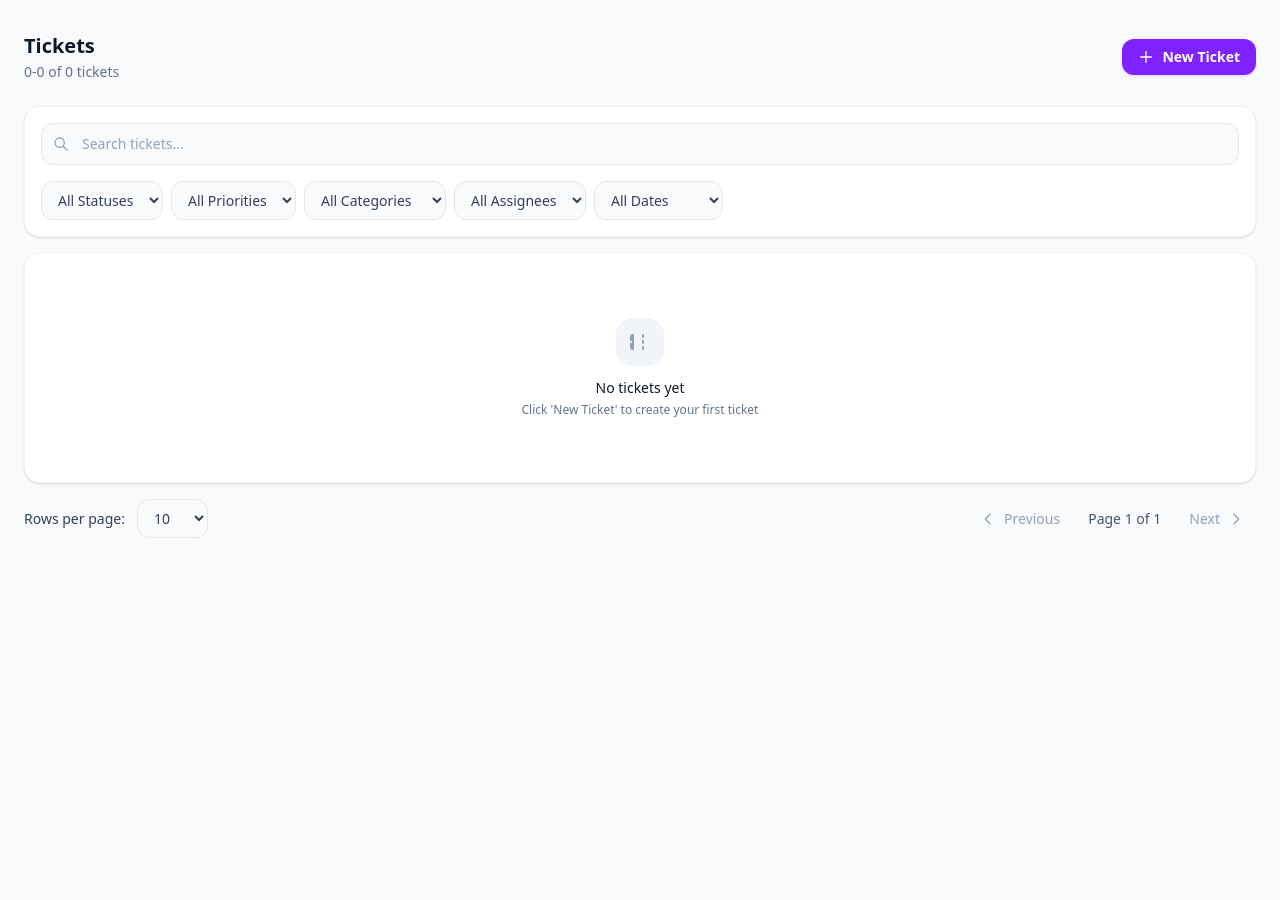
Test: TicketsPage › CreateTicketModal › shows API error message on failed submit
expect the text "No tickets yet" is shown: met, box left=596, top=378, right=684, bottom=398
Click the button "New Ticket" at (1189,57), box left=1122, top=39, right=1256, bottom=75
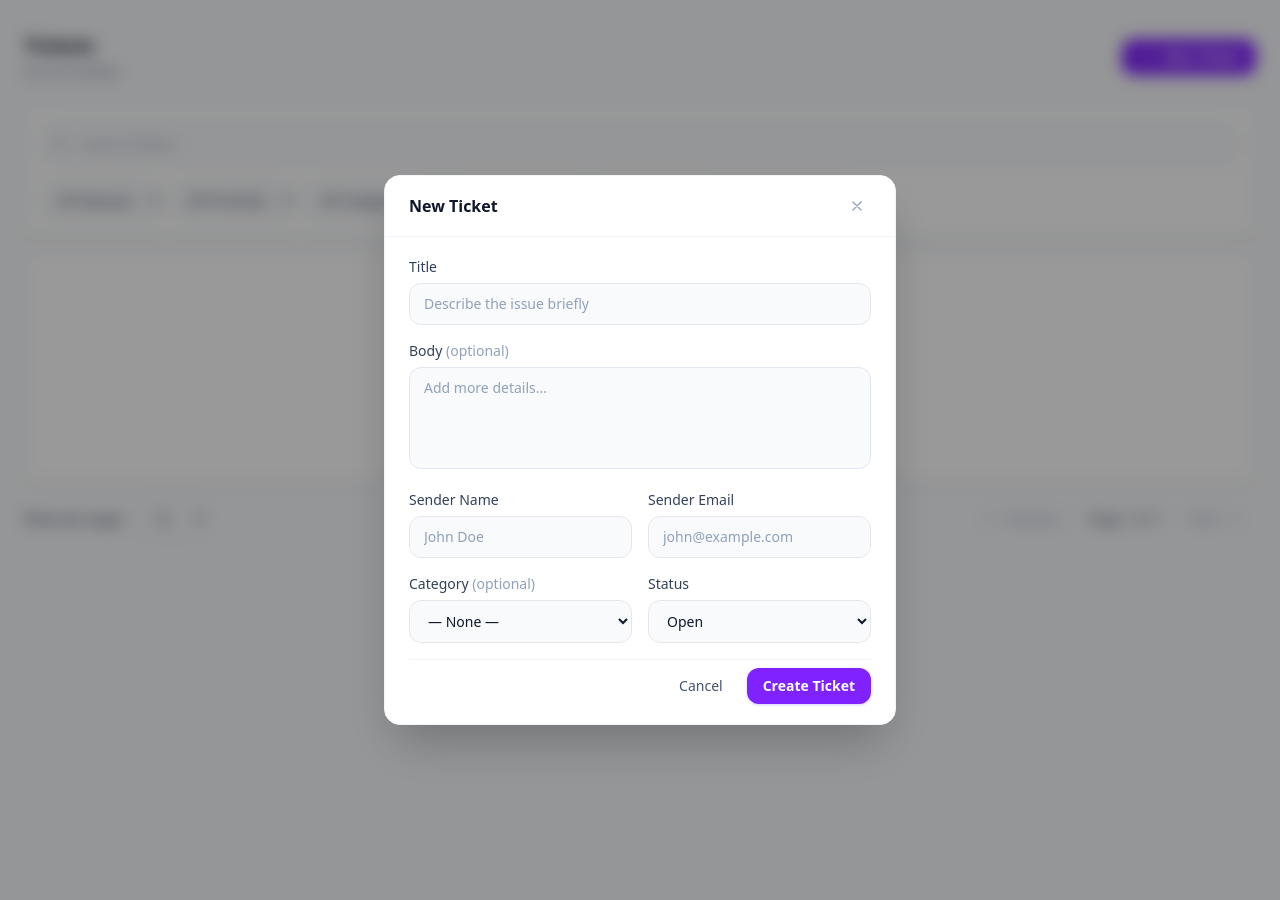
Type "My subject" into the field with placeholder "Describe the issue briefly" at (640,304), box left=409, top=283, right=871, bottom=325
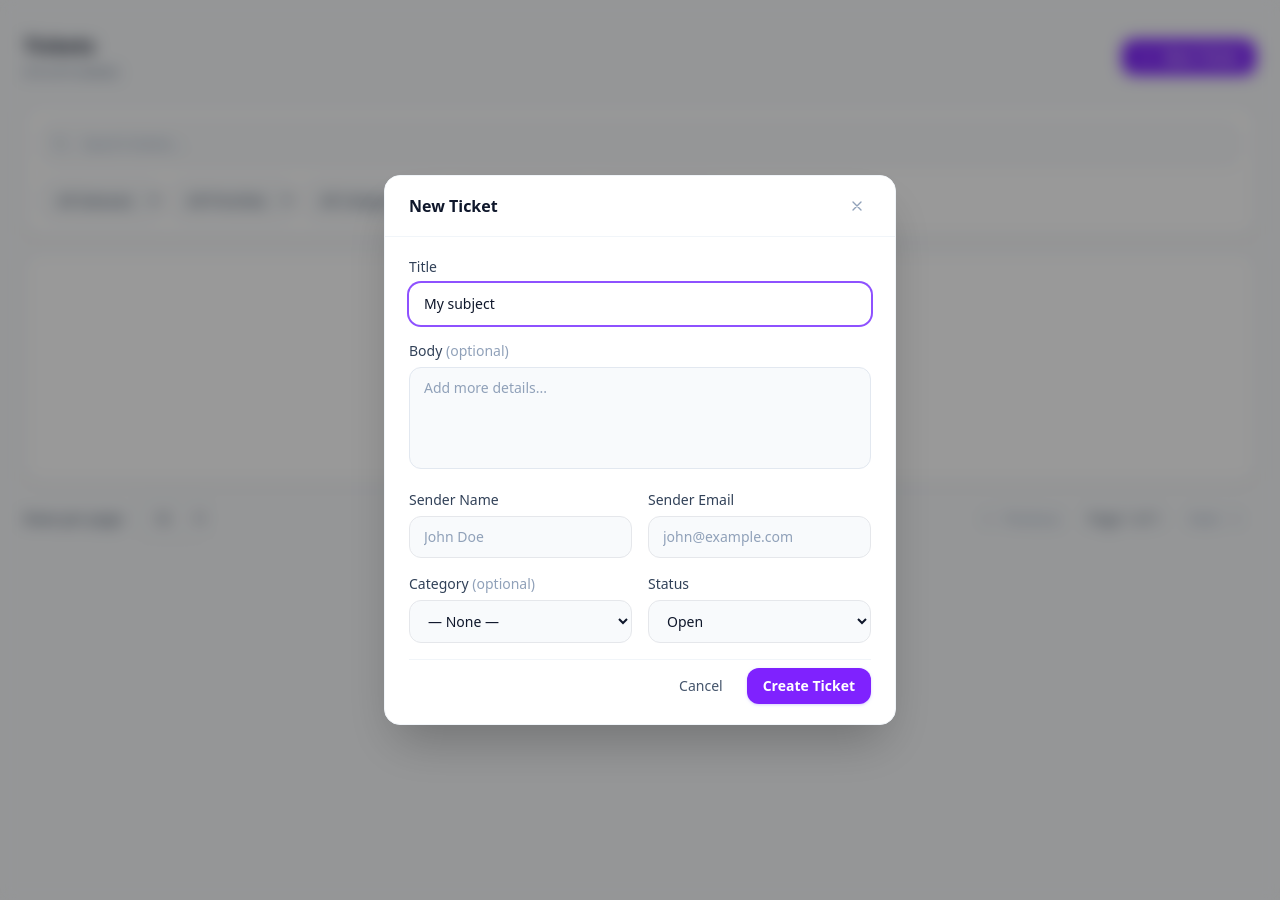
Type "Jane" into the field with placeholder "John Doe" at (520,537), box left=409, top=516, right=632, bottom=558
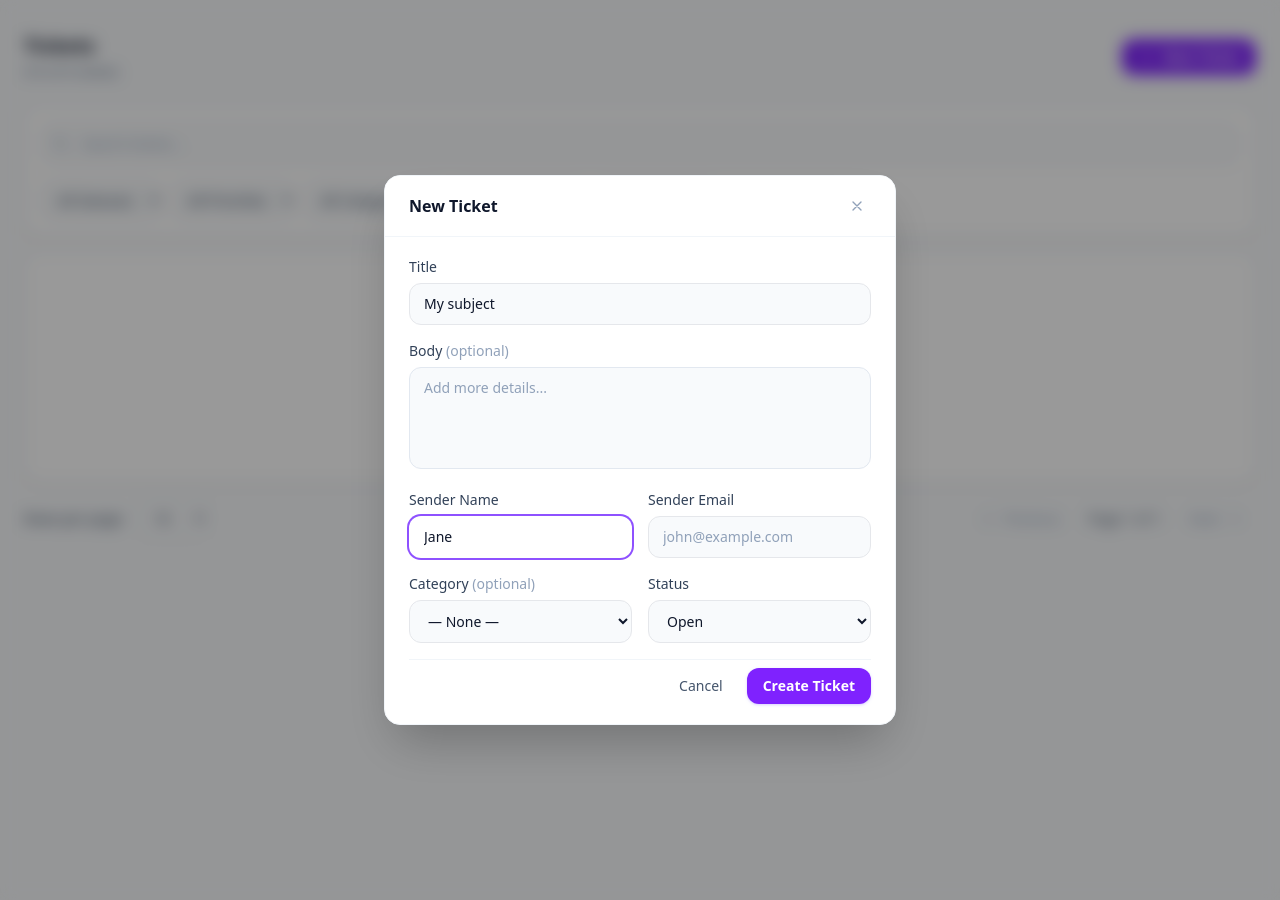
Type "jane@example.com" into the field with placeholder "john@example.com" at (760,537), box left=648, top=516, right=871, bottom=558
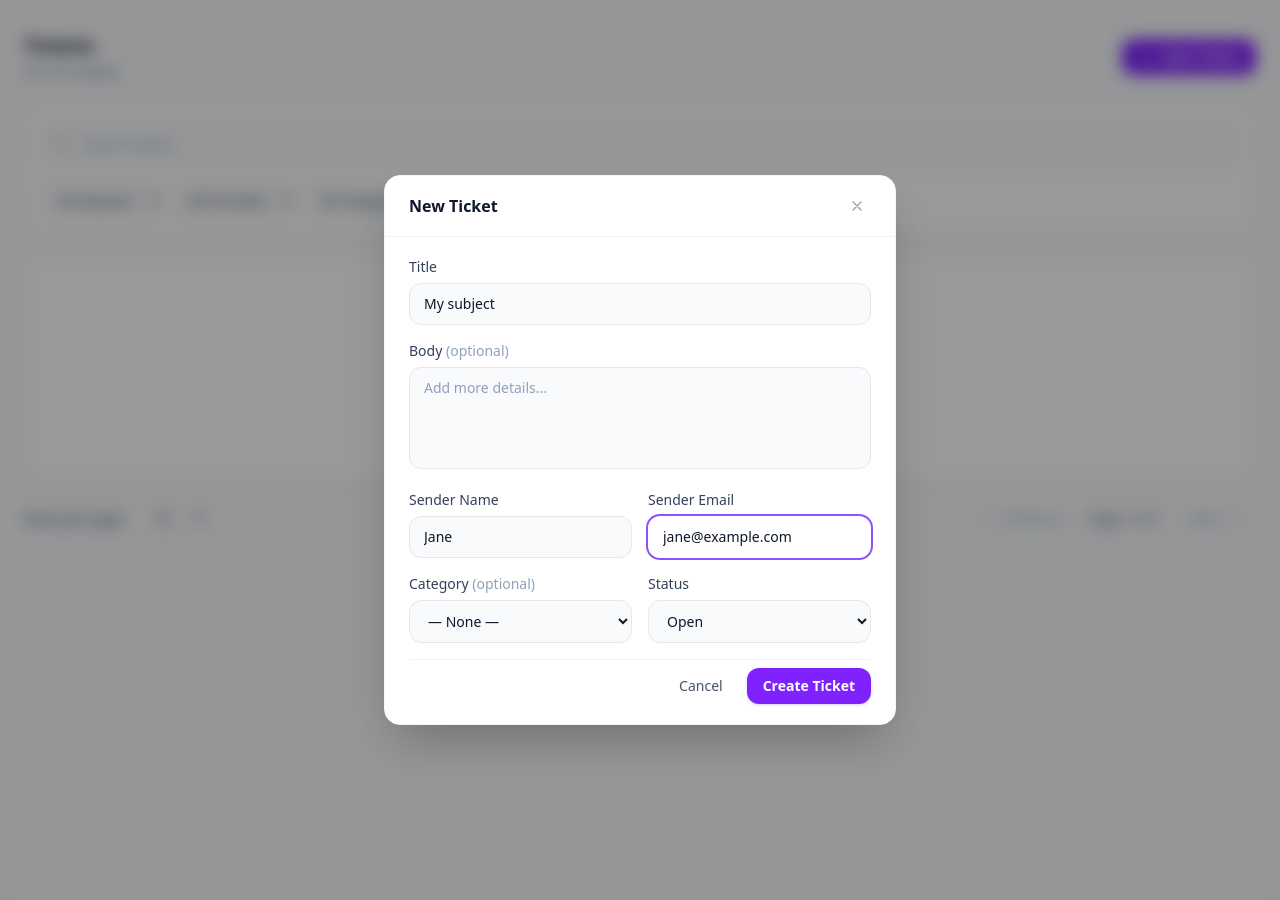
Click the button "Create Ticket" at (809,686), box left=747, top=668, right=871, bottom=704
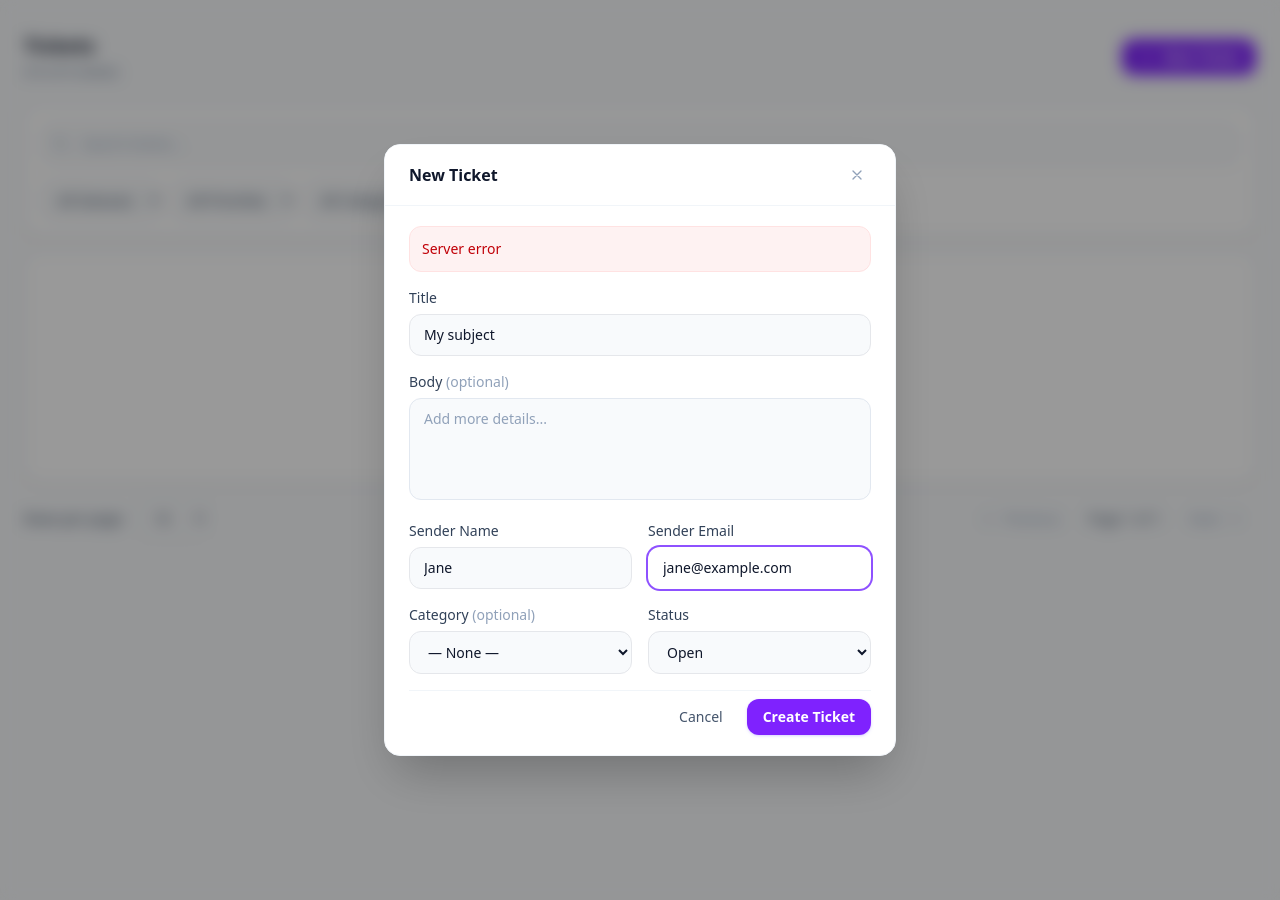
expect the text "Server error" is shown: met, box left=409, top=226, right=871, bottom=272
